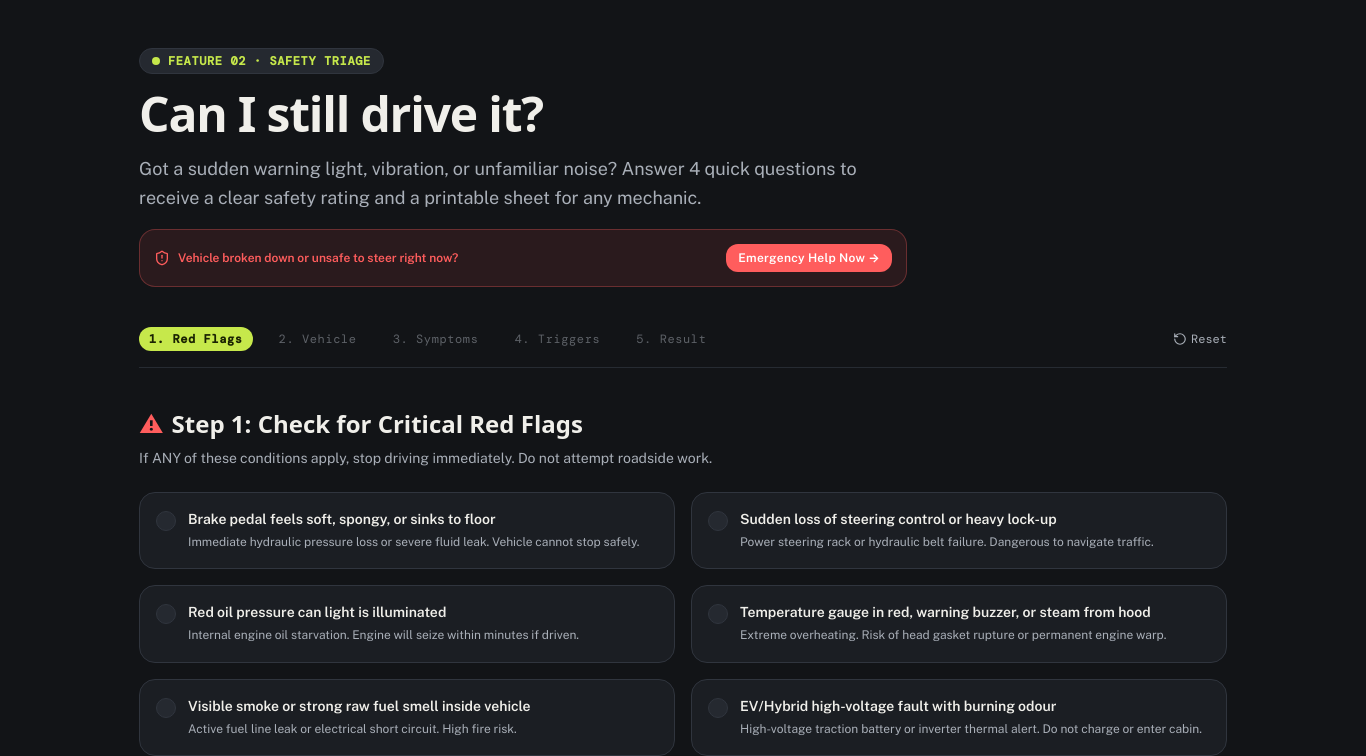
Test: Symptom & Warning-Light Guide (Feature 02) › navigates through red flag selection to Stop result screen
Note: Click on soft brake red flag
Click the heading "Brake pedal feels soft, spongy, or sinks to floor" at (342, 518), box [188, 510, 496, 526]
(page scrolled)
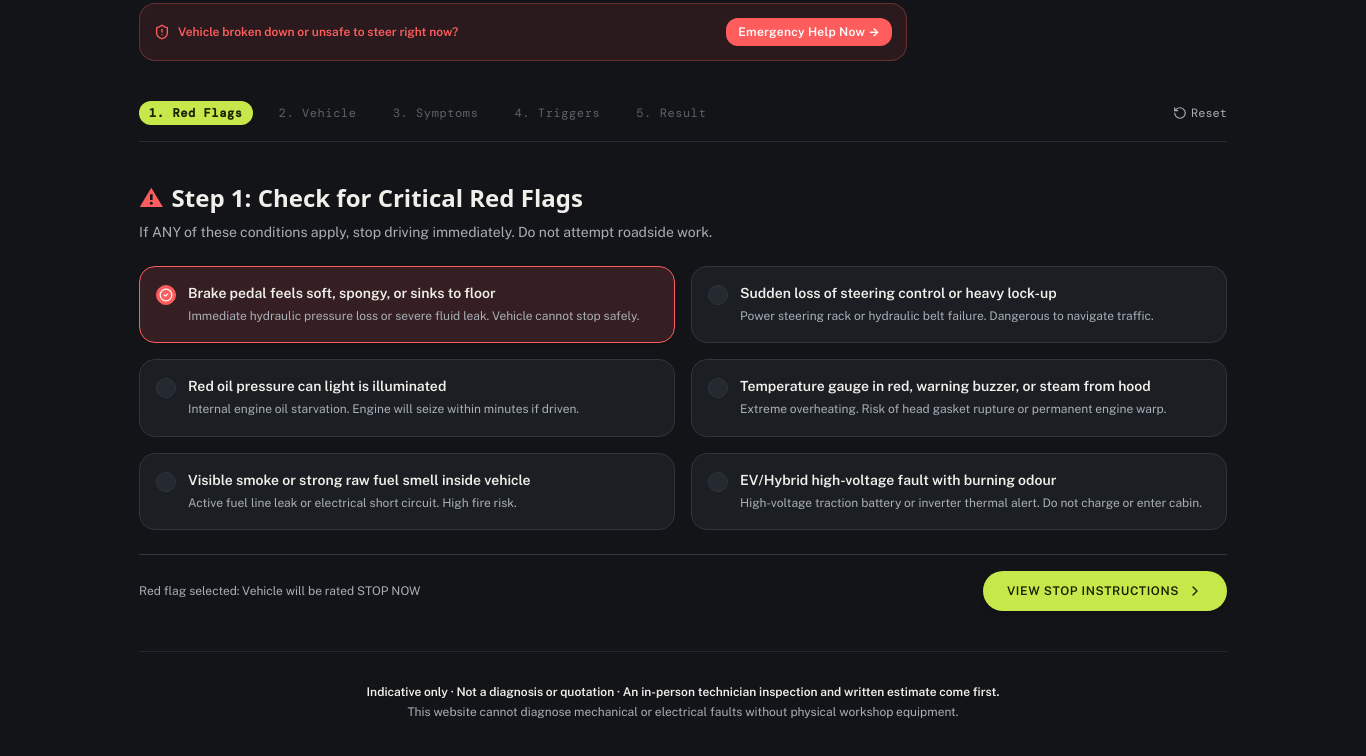
Note: Click "View Stop Instructions"
Click the button "View Stop Instructions" at (1105, 591), box [983, 571, 1227, 611]
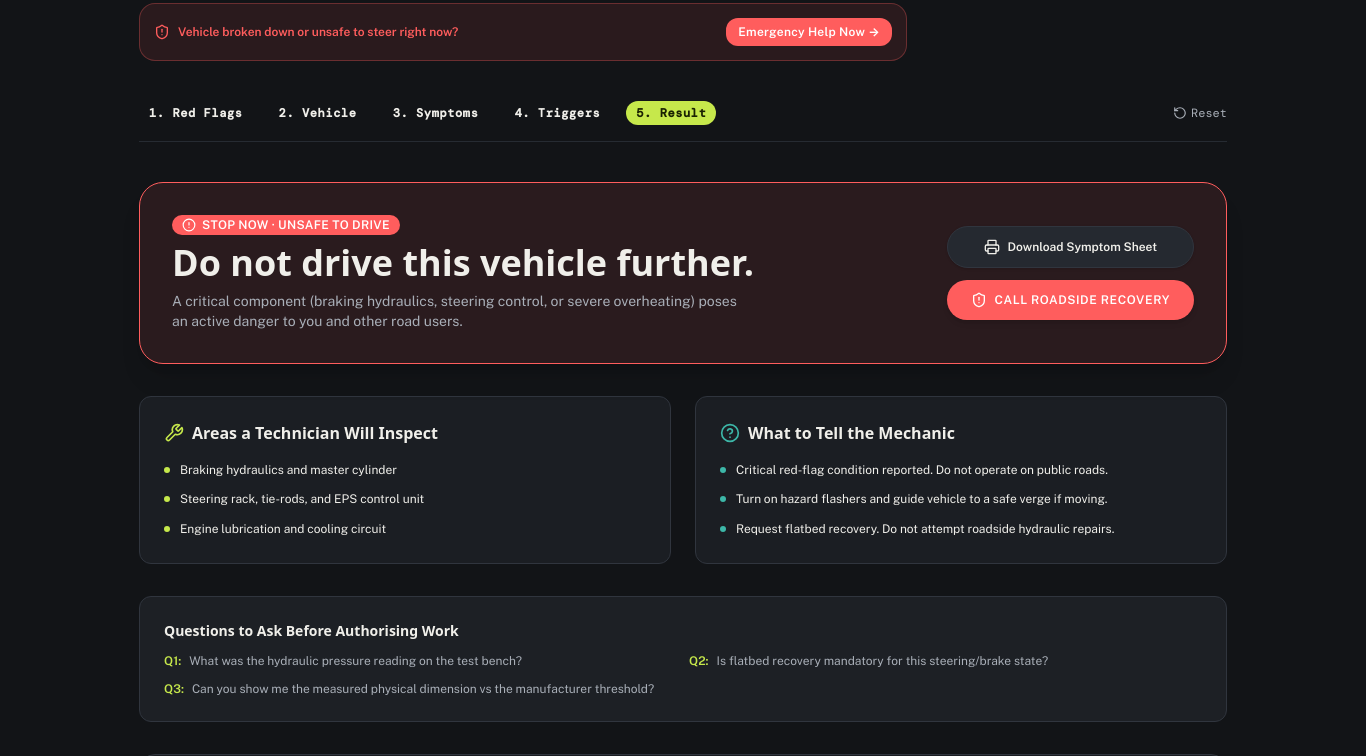
Now the text "STOP NOW · UNSAFE TO DRIVE" is shown, box [172, 214, 400, 234]
Now the link "Call Roadside Recovery" is shown, box [947, 280, 1194, 320]
